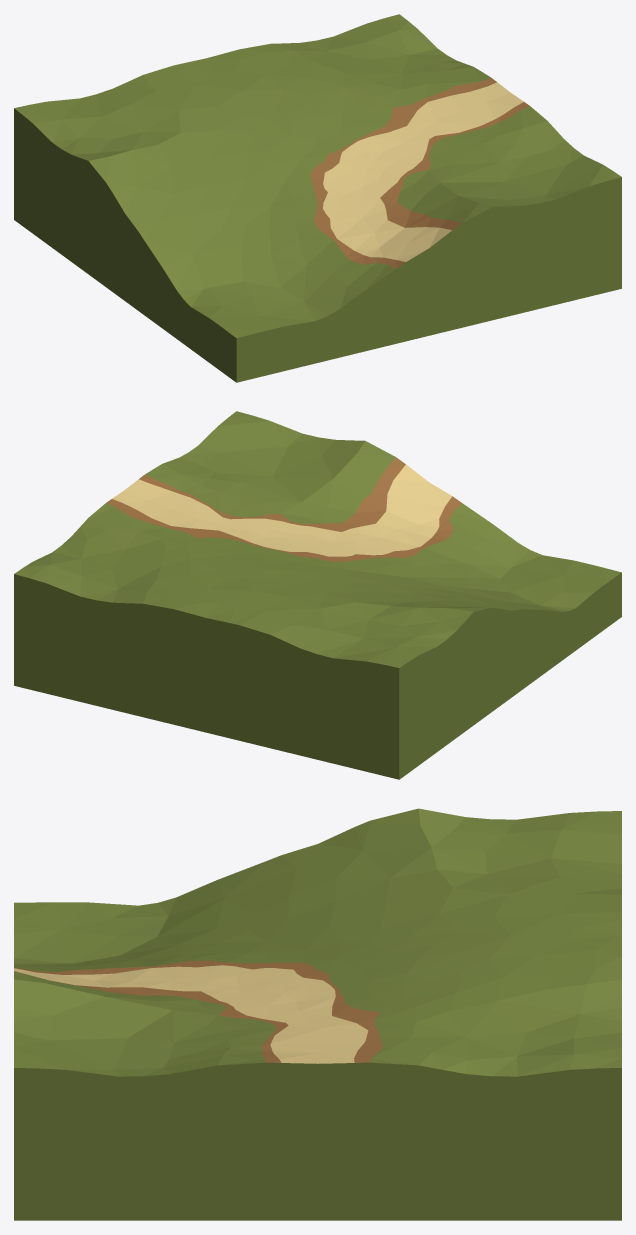
The model's file is Terrian_Road_Bend_HillDip-04.fbx.
The picture shows the model from 3 angles, top to bottom: view 1: azimuth 30°, elevation 25°; view 2: azimuth 150°, elevation 25°; view 3: azimuth 270°, elevation 25°; orthographic projection. The views are drawn at different scales.
Parts seen in each view (by area): view 1: Terrian_Road_Bend_HillDip-04; view 2: Terrian_Road_Bend_HillDip-04; view 3: Terrian_Road_Bend_HillDip-04.
Part boxes in pixels (bbox=[...]): Terrian_Road_Bend_HillDip-04: bbox=[14, 14, 621, 382]; Terrian_Road_Bend_HillDip-04: bbox=[14, 411, 621, 779]; Terrian_Road_Bend_HillDip-04: bbox=[14, 808, 621, 1220].
Size of the model in its own units: 3600 by 1031 by 3600.
Materials: 1 (1 with a texture image).
